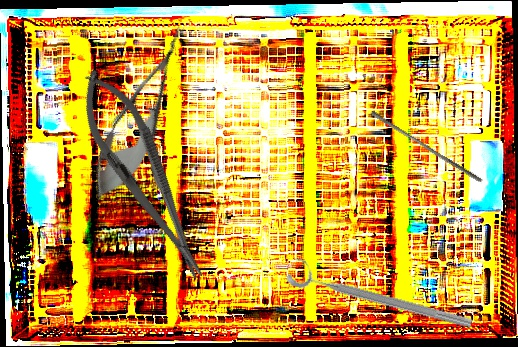Fixation Ring: (285, 254, 477, 334)
Micro Scissor: (77, 15, 204, 212)
Needle Holder: (64, 60, 222, 291)
Pusher: (367, 109, 486, 184)
